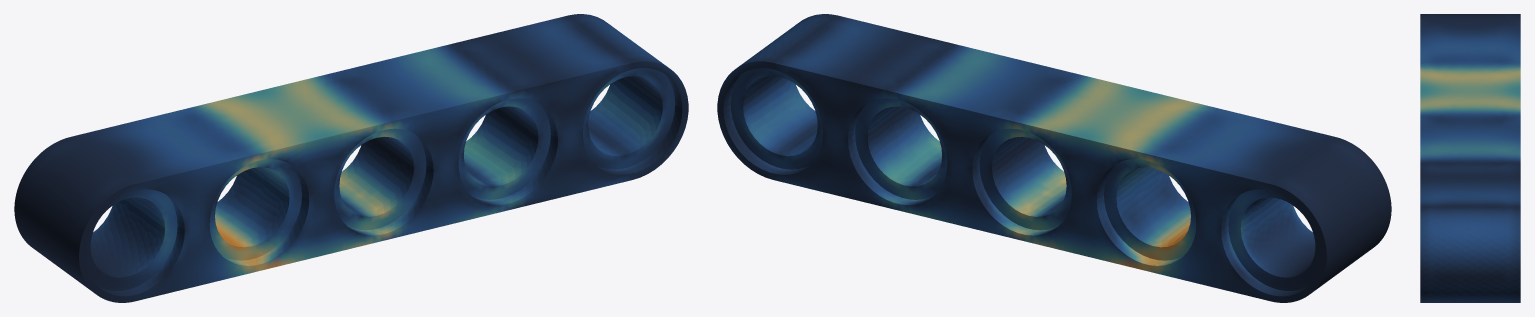
Rendered from lengokar.glb.
3 renders of one model, left to right at view 1: azimuth 30°, elevation 25°; view 2: azimuth 150°, elevation 25°; view 3: azimuth 270°, elevation 25°, orthographic. The views are drawn at different scales.
Parts seen in each view (by area): view 1: fem; view 2: fem; view 3: fem.
Boxes of the visible parts, box(x1,y1,x2,y2) form: fem: box(14, 14, 688, 302); fem: box(717, 14, 1391, 302); fem: box(1420, 14, 1520, 302).
Bounding box in the file's own units: 39.2 × 7.2 × 7.2.
